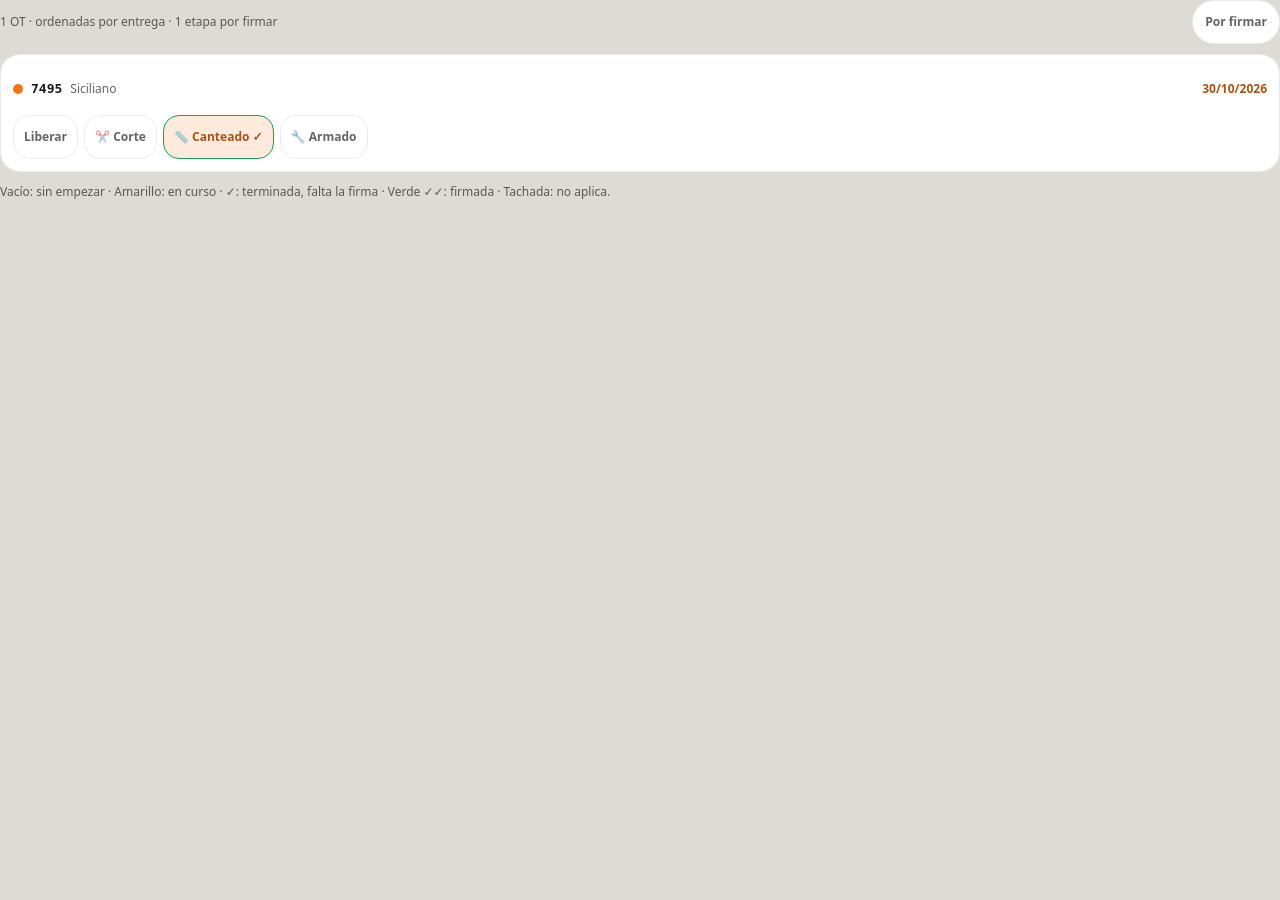
Test: tablero — el responsable firma una etapa terminada
Expected: the text "1 OT · ordenadas por entrega · 1 etapa por firmar" is shown, left=0, top=13, right=278, bottom=30
Click the button with aria-label "Canteado de la OT 7495: Terminada, falta la firma". click: (218, 137)
box: left=163, top=115, right=274, bottom=159
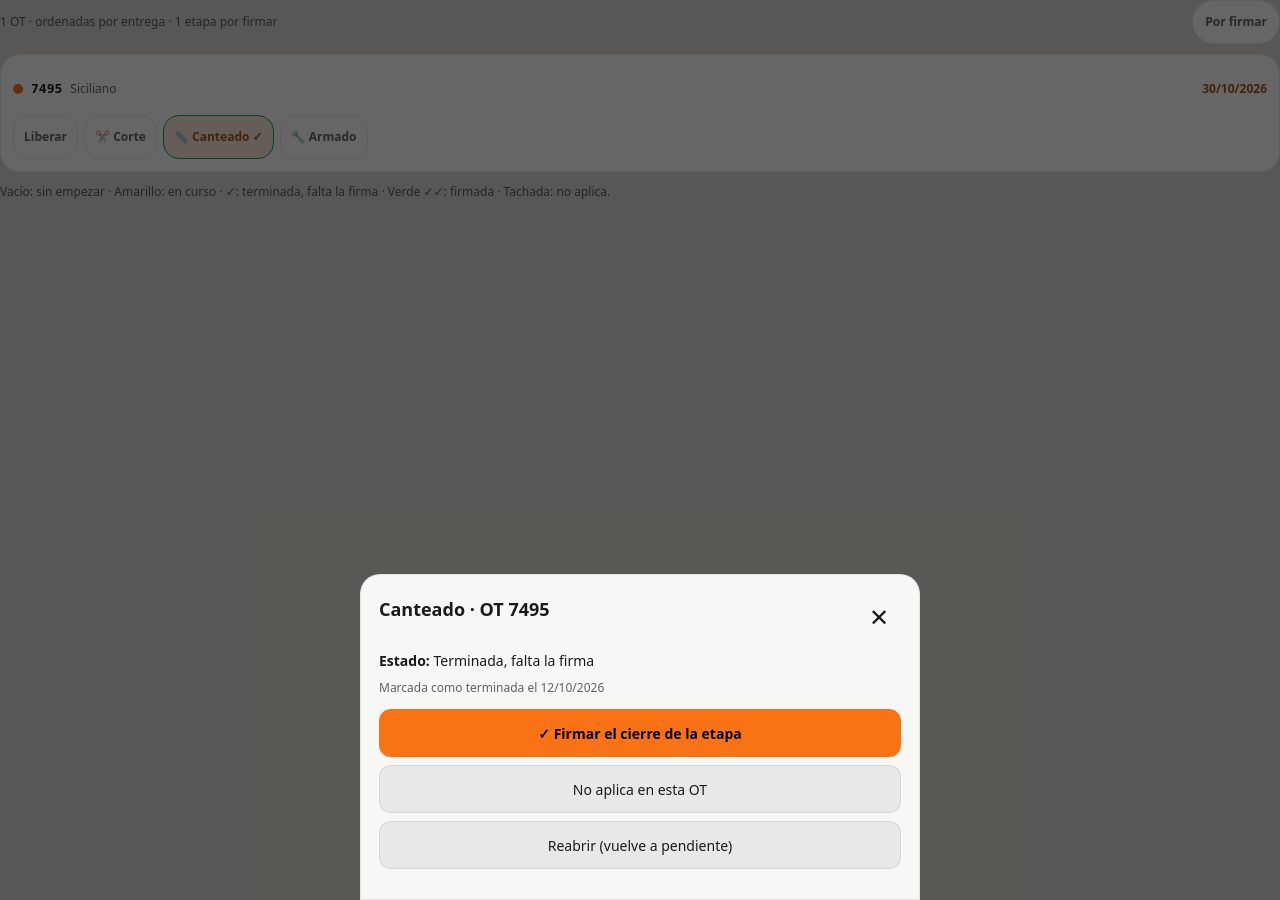
Click the button "✓ Firmar el cierre de la etapa". click: (640, 733)
box: left=379, top=709, right=901, bottom=757
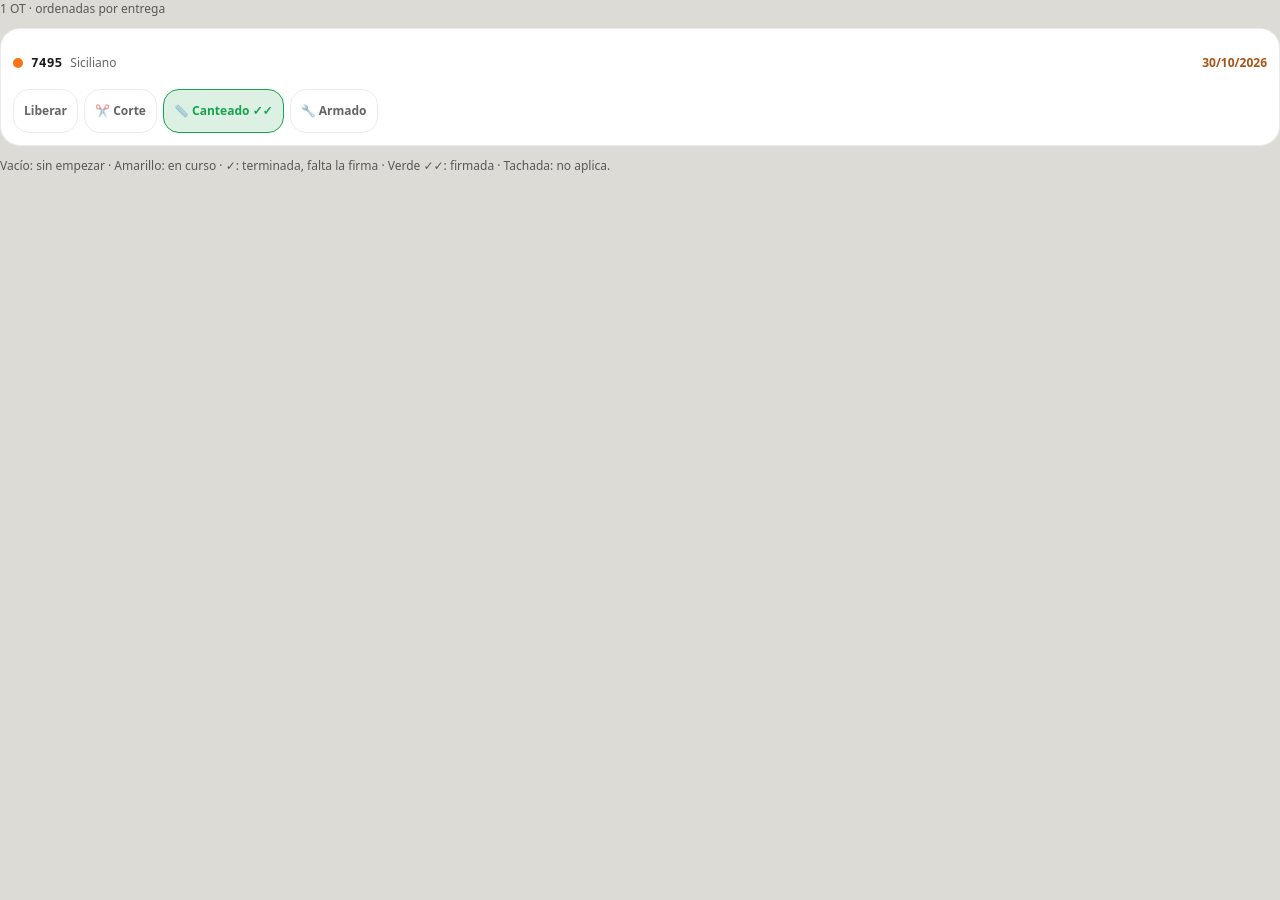
Expected: the button with aria-label "Canteado de la OT 7495: Firmada" is shown, left=163, top=89, right=284, bottom=133
